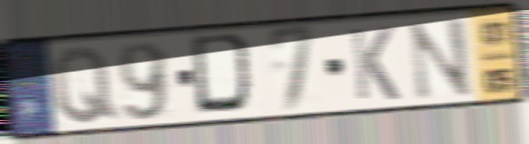7: (266, 21, 316, 118)
9: (117, 40, 173, 122)
D: (188, 31, 261, 118)
K: (347, 24, 402, 103)
N: (407, 15, 476, 103)
Q: (49, 44, 122, 128)
